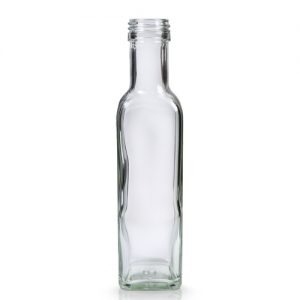container: (114, 13, 184, 291)
